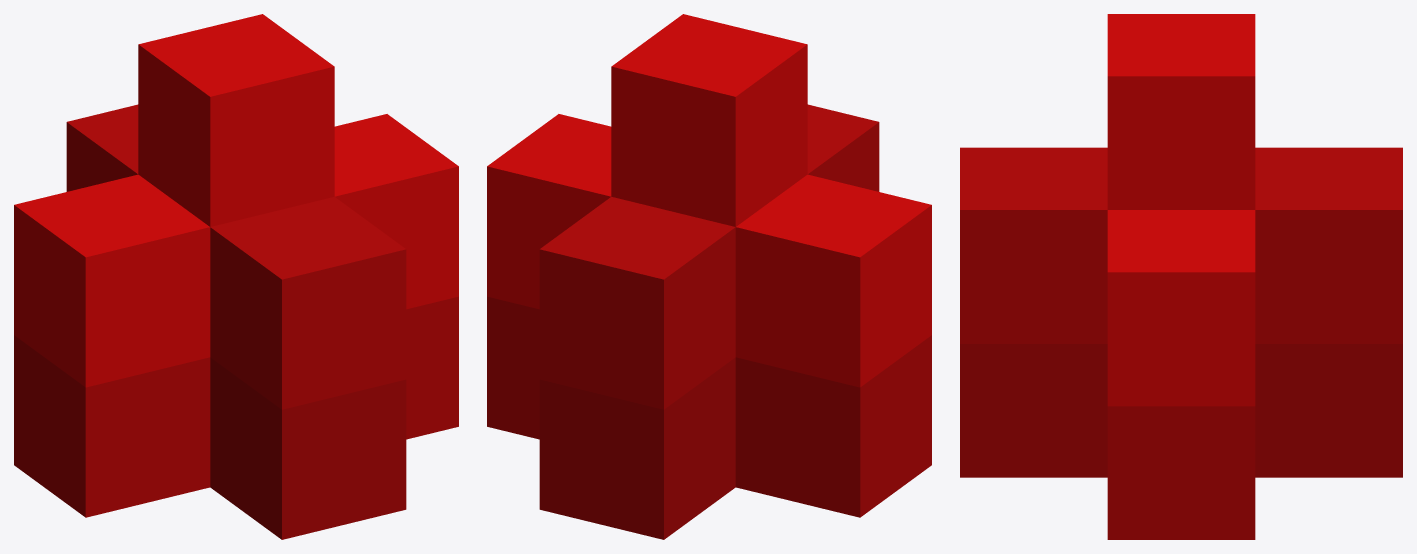
File: Flame.obj
3 renders of one model, left to right at view 1: azimuth 30°, elevation 25°; view 2: azimuth 150°, elevation 25°; view 3: azimuth 270°, elevation 25°, orthographic. The views are drawn at different scales.
Parts seen in each view (by area): view 1: Flame; view 2: Flame; view 3: Flame.
Boxes of the visible parts, <box> form: Flame: <box>14,14,458,539</box>; Flame: <box>487,14,931,539</box>; Flame: <box>960,14,1402,539</box>.
Bounding box in the file's own units: 3 × 3 × 3.
Materials: 1 (1 with a texture image).
